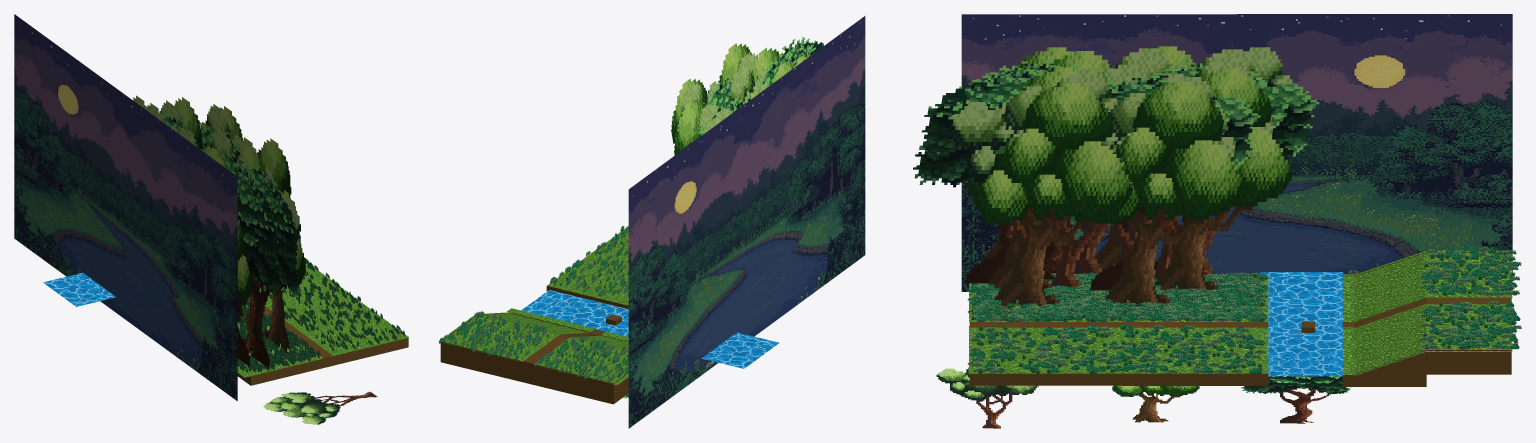
Rendered from Proyecto1.glb.
The picture shows the model from 3 angles, left to right: view 1: azimuth 30°, elevation 25°; view 2: azimuth 150°, elevation 25°; view 3: azimuth 270°, elevation 25°; orthographic projection. The views are drawn at different scales.
Parts seen in each view (by area): view 1: Fondo, Arbol_4 (×3), Arbol_3 (×5), Cezped2, Arbol_2 (×4), Cube.001, agua, Cezped; view 2: Fondo, Cezped2.002, Cube.002, agua, Cezped2, Arbol_3 (×4), Arbol_2 (×2), Arbol_4 (×2); view 3: Fondo, Arbol_3 (×8), Arbol_2 (×8), Arbol_4 (×5), Cezped2.002, agua, Cezped2, Cube.001, Cube.002, Cezped.
Boxes of the visible parts, x1,y1,x2,y2 form: Fondo: [14, 14, 237, 400]; Arbol_4 (×3): [199, 122, 299, 368]; Arbol_3 (×5): [174, 97, 305, 353]; Cezped2: [259, 263, 408, 356]; Arbol_2 (×4): [203, 104, 377, 424]; Cube.001: [237, 271, 408, 385]; agua: [43, 272, 116, 306]; Cezped: [237, 304, 323, 377]; Fondo: [628, 16, 865, 428]; Cezped2.002: [438, 308, 628, 385]; Cube.002: [440, 312, 628, 404]; agua: [521, 290, 779, 368]; Cezped2: [547, 228, 628, 305]; Arbol_3 (×4): [671, 43, 779, 155]; Arbol_2 (×2): [677, 66, 767, 131]; Arbol_4 (×2): [703, 37, 823, 108]; Fondo: [961, 14, 1512, 291]; Arbol_3 (×8): [966, 46, 1292, 422]; Arbol_2 (×8): [936, 47, 1294, 428]; Arbol_4 (×5): [913, 62, 1351, 423]; Cezped2.002: [1343, 250, 1512, 375]; agua: [1260, 272, 1343, 376]; Cezped2: [969, 326, 1268, 373]; Cube.001: [969, 322, 1268, 385]; Cube.002: [1301, 252, 1511, 386]; Cezped: [969, 274, 1268, 321].
Size of the model in its own units: 46.15 by 53.04 by 92.64.
Materials: 16 (12 with a texture image).
